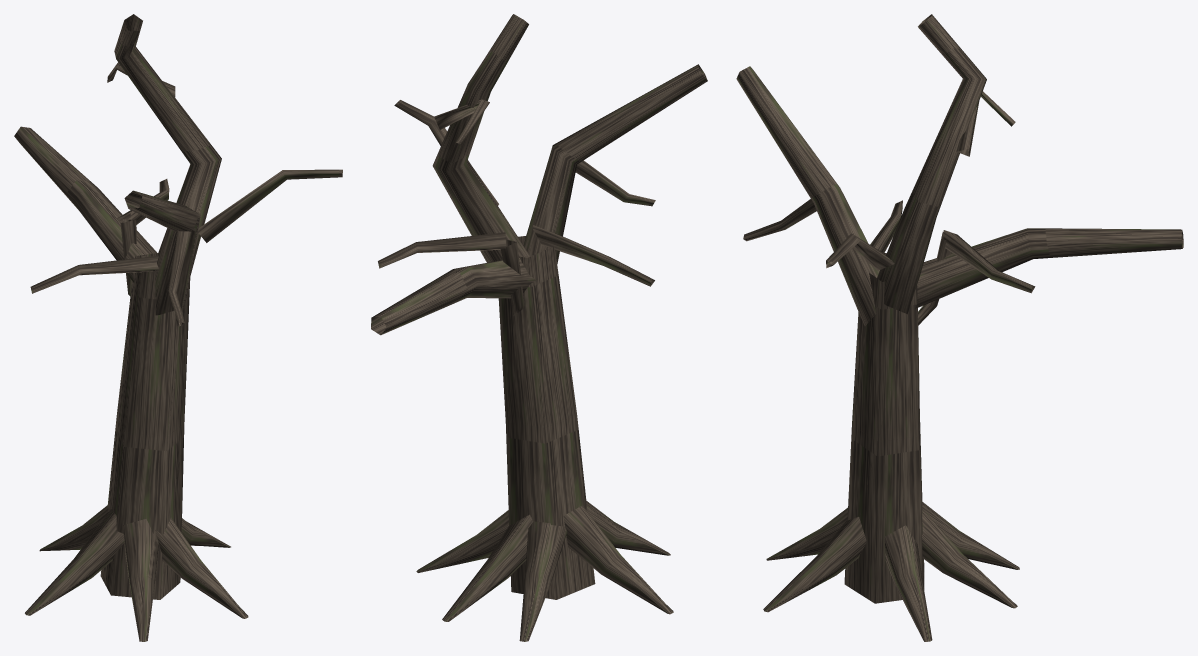
File: DeadTree_4_LOD1.gltf
3 views of the same model, side by side, from view 1: azimuth 30°, elevation 25°; view 2: azimuth 150°, elevation 25°; view 3: azimuth 270°, elevation 25° (orthographic). The views are drawn at different scales.
Parts seen in each view (by area): view 1: DeadTree_4_LOD1; view 2: DeadTree_4_LOD1; view 3: DeadTree_4_LOD1.
Boxes of the visible parts, x1,y1,x2,y2 form: DeadTree_4_LOD1: (14,14,342,641); DeadTree_4_LOD1: (371,14,707,641); DeadTree_4_LOD1: (736,14,1183,641).
Size of the model in its own units: 7.45 by 13.55 by 9.49.
Materials: 1 (1 with a texture image).
